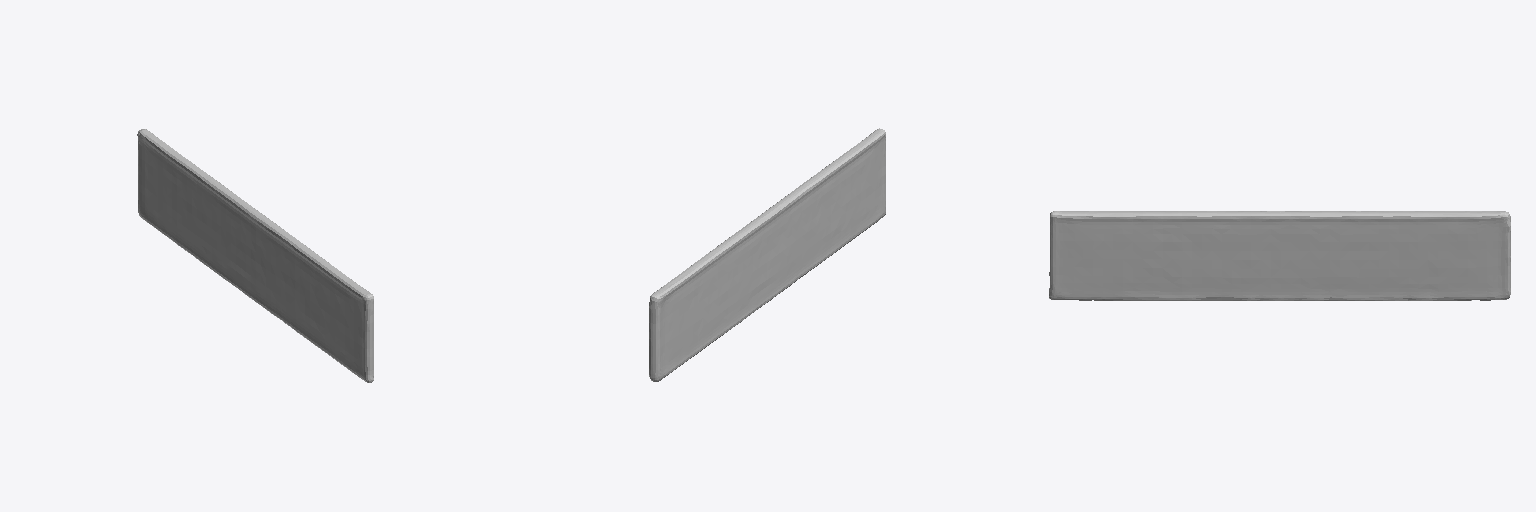
The model's file is plank_low.obj.
3 renders of one model, left to right at view 1: azimuth 30°, elevation 25°; view 2: azimuth 150°, elevation 25°; view 3: azimuth 270°, elevation 25°, orthographic.
Parts seen in each view (by area): view 1: mesh; view 2: mesh; view 3: mesh.
Boxes of the visible parts, x1,y1,x2,y2 form: mesh: [137, 129, 373, 382]; mesh: [649, 128, 885, 381]; mesh: [1049, 211, 1510, 300].
Size of the model in its own units: 0.0264 by 0.2103 by 0.9985.